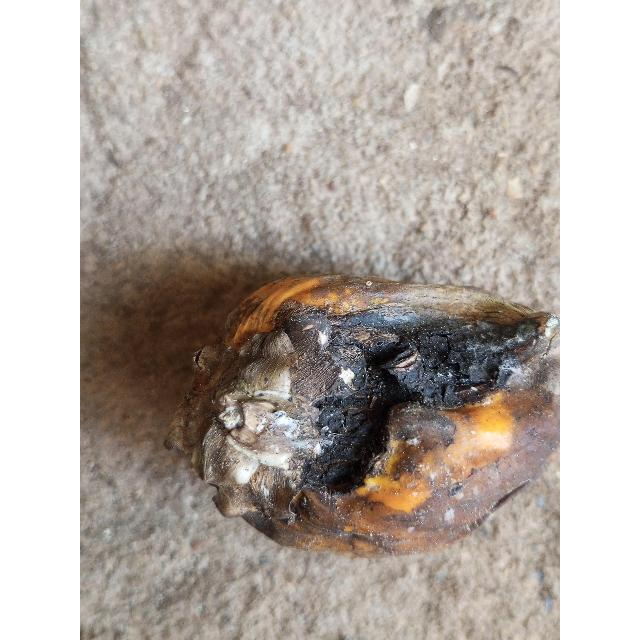damaged: (172, 275, 560, 561)
